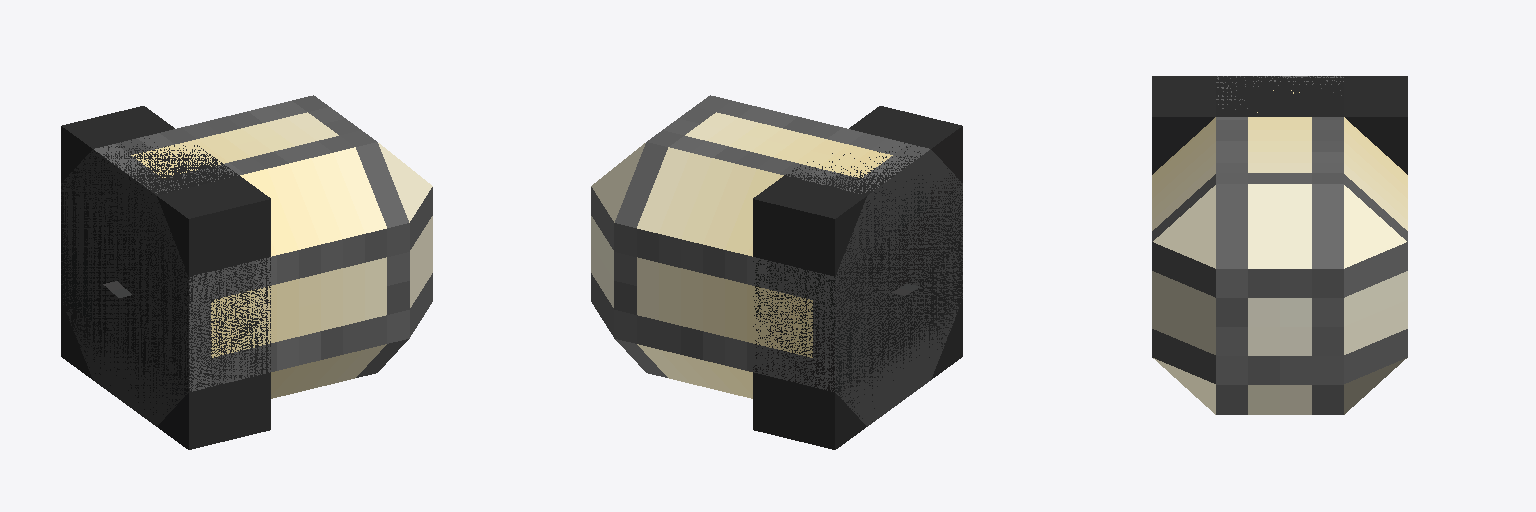
3 views of the same model, side by side, from view 1: azimuth 30°, elevation 25°; view 2: azimuth 150°, elevation 25°; view 3: azimuth 270°, elevation 25° (orthographic).
Visible parts, largest first — view 1: socket, base; view 2: socket, base; view 3: socket, base.
Part boxes in pixels (x1,y1,x2,y2): socket: (61, 95, 432, 426); base: (61, 106, 270, 449); socket: (591, 95, 962, 426); base: (753, 106, 962, 449); socket: (1152, 76, 1407, 414); base: (1152, 76, 1407, 174).
Bounding box in the file's own units: 0.3281 × 0.25 × 0.25.
Materials: 1 (1 with a texture image).